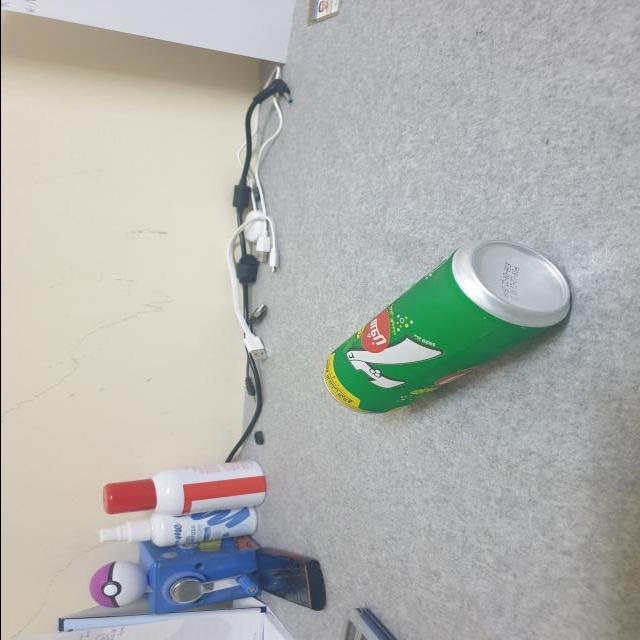can: (317, 239, 574, 416)
